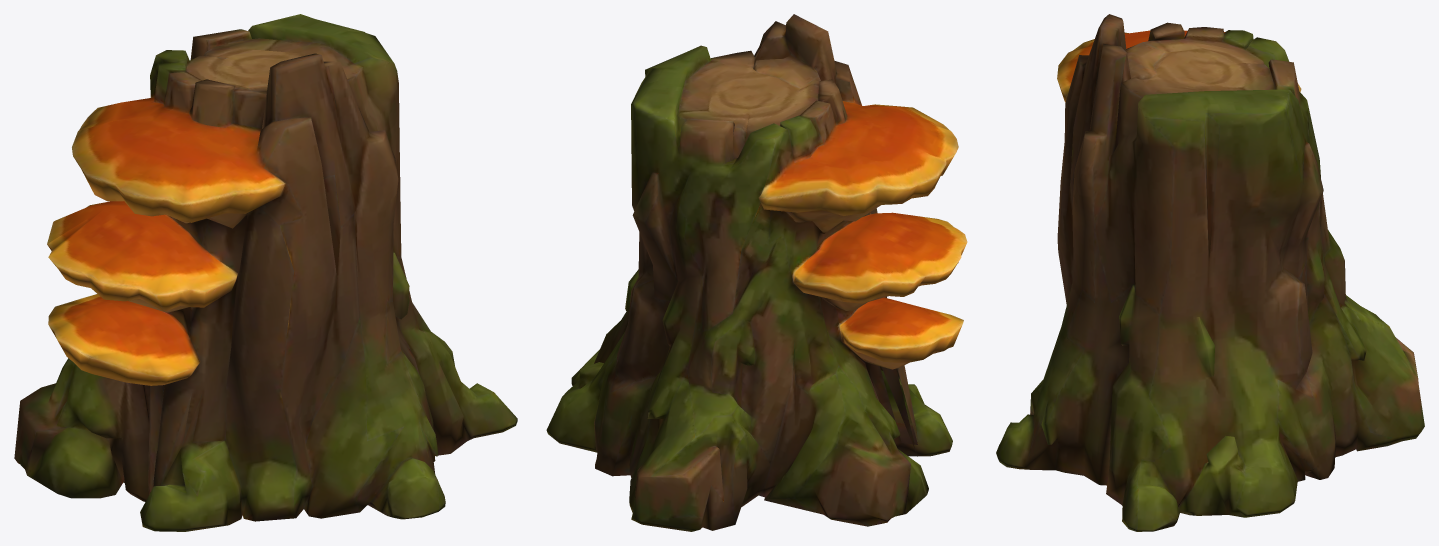
Rendered from champignon_arbre.glb.
The picture shows the model from 3 angles, left to right: view 1: azimuth 30°, elevation 25°; view 2: azimuth 150°, elevation 25°; view 3: azimuth 270°, elevation 25°; orthographic projection. The views are drawn at different scales.
Parts seen in each view (by area): view 1: geometry_0; view 2: geometry_0; view 3: geometry_0.
Part boxes in pixels (box(x1,y1,x2,y2)): geometry_0: box(14, 14, 517, 531); geometry_0: box(546, 14, 967, 531); geometry_0: box(996, 14, 1424, 531).
Bounding box in the file's own units: 0.9624 × 0.9141 × 0.8721.
Materials: 1 (1 with a texture image).
